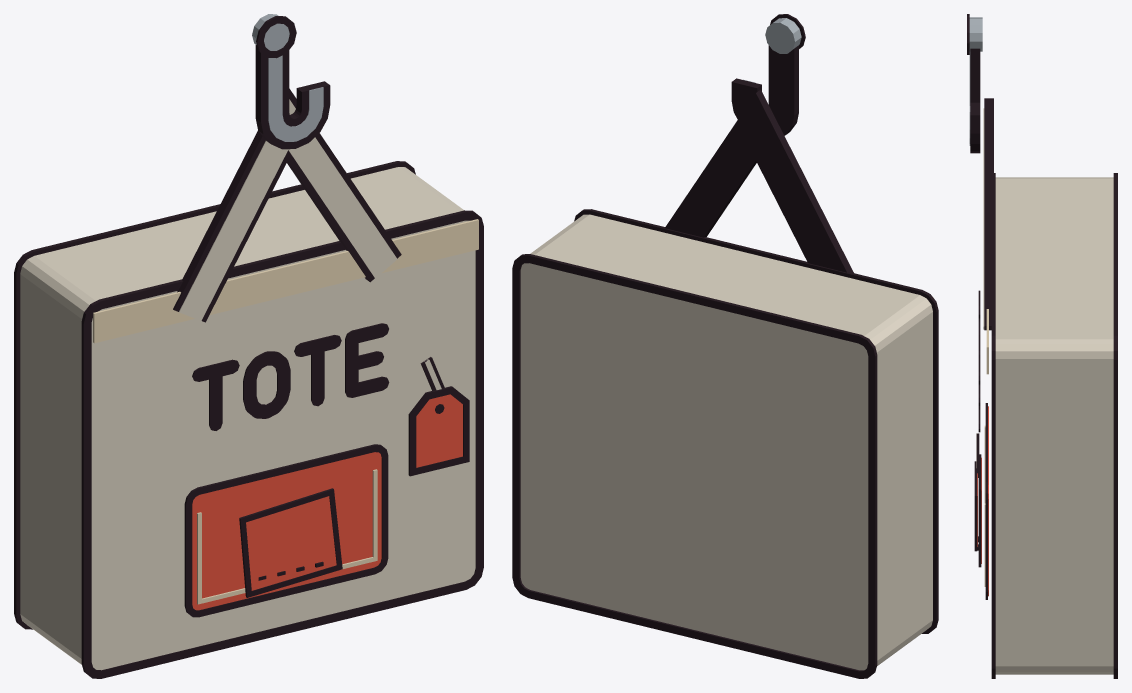
3 views of the same model, side by side, from view 1: azimuth 30°, elevation 25°; view 2: azimuth 150°, elevation 25°; view 3: azimuth 270°, elevation 25° (orthographic). The views are drawn at different scales.
Parts seen in each view (by area): view 1: Bag Holders proposal; view 2: Bag Holders proposal; view 3: Bag Holders proposal.
Part boxes in pixels (<box>): Bag Holders proposal: <box>14,14,483,678</box>; Bag Holders proposal: <box>512,14,938,678</box>; Bag Holders proposal: <box>967,14,1117,678</box>.
Bounding box in the file's own units: 0.6711 × 1.01 × 0.2421.
